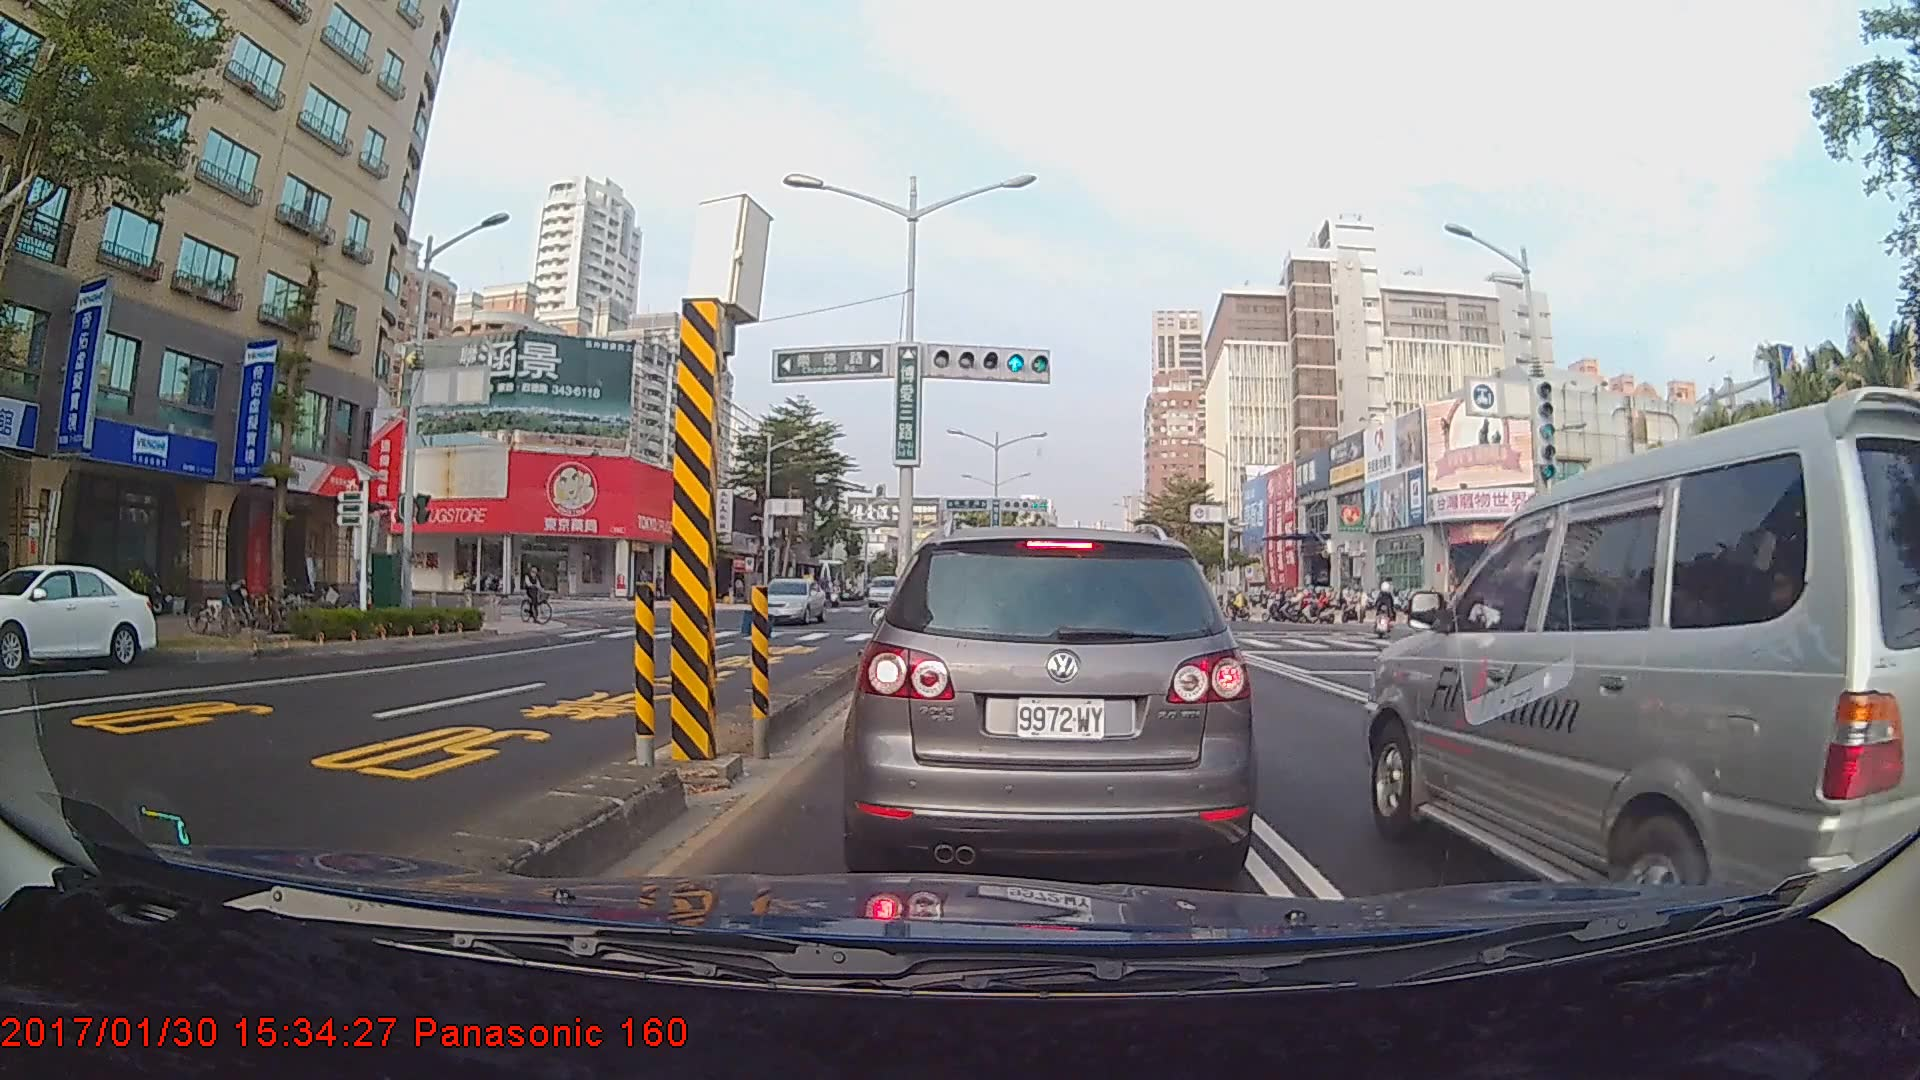rider: (518, 559, 561, 629), (1373, 584, 1398, 642)
vehicle: (1361, 375, 1920, 882), (852, 520, 1251, 886), (0, 561, 157, 671), (752, 577, 824, 625), (864, 574, 902, 606)
